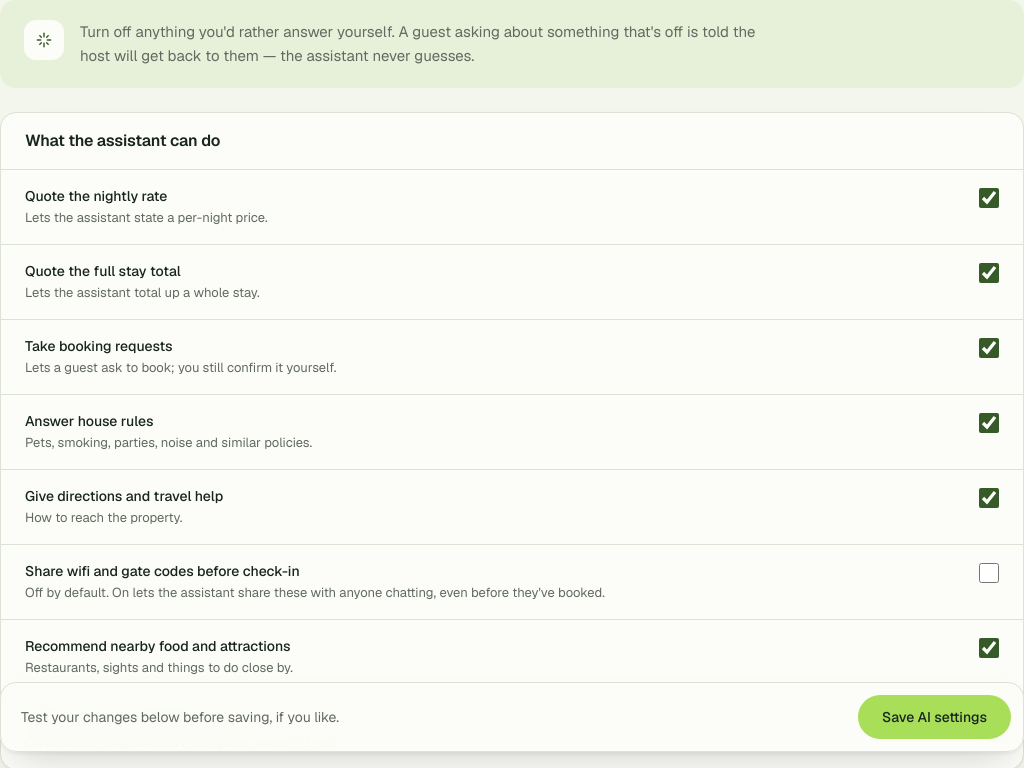
AiSettingsForm › submitting shows the saved notice
The width and height of the screenshot is (1024, 768).
Click the button "Save AI settings".
click(934, 717)  # box [858, 695, 1011, 739]
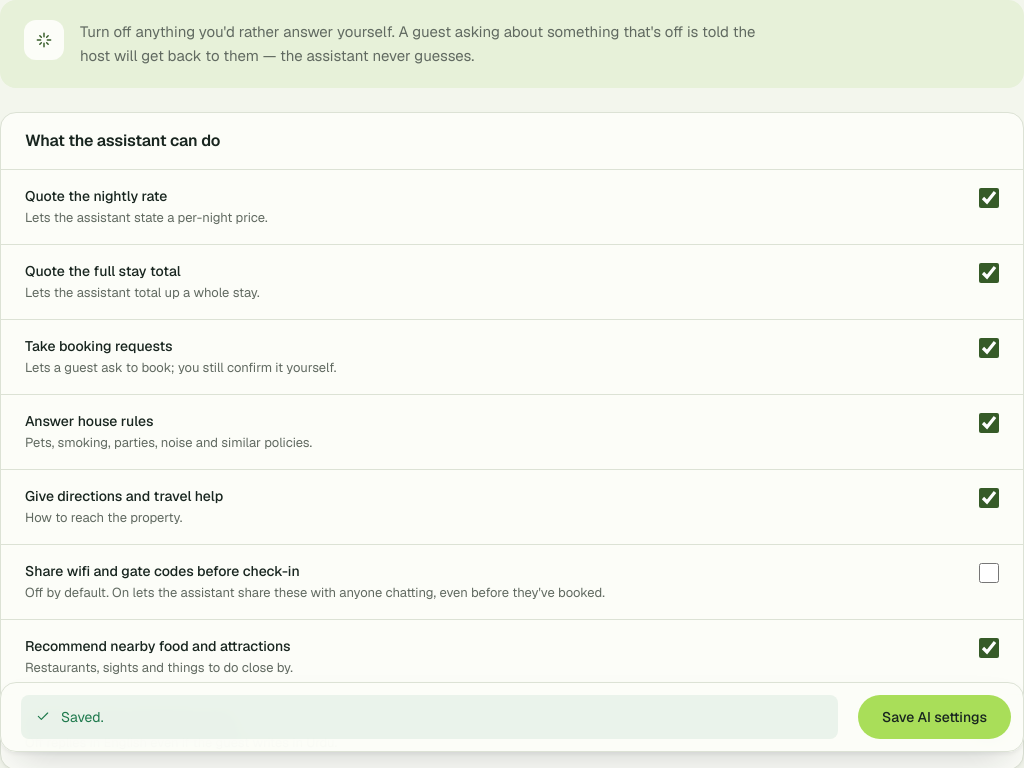
Expected: the text "Saved." is shown, [61, 707, 104, 727]
